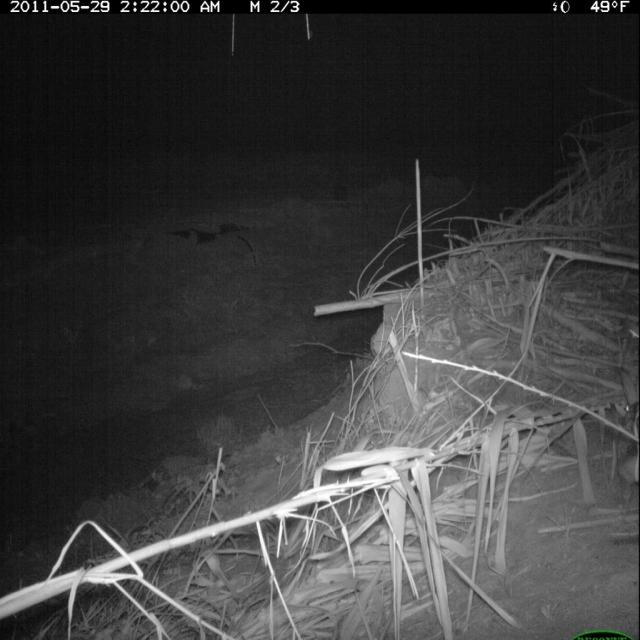rabbit: (614, 362, 639, 504)
